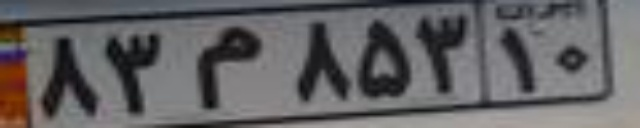0: (552, 46, 590, 71)
1: (498, 30, 539, 93)
3: (102, 31, 167, 115), (414, 13, 468, 94)
5: (352, 20, 413, 97)
8: (34, 37, 100, 119), (298, 21, 351, 101)
mim: (186, 25, 269, 111)
